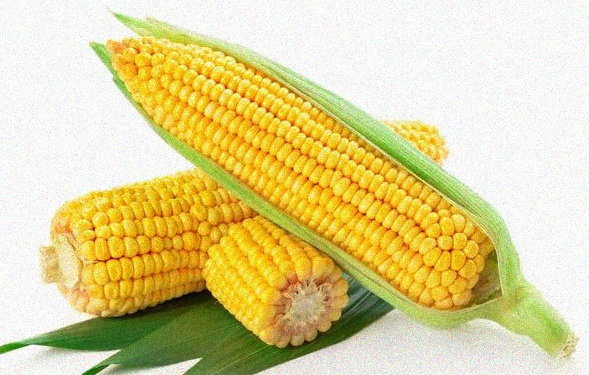corn: (116, 30, 545, 335), (57, 124, 449, 297)
